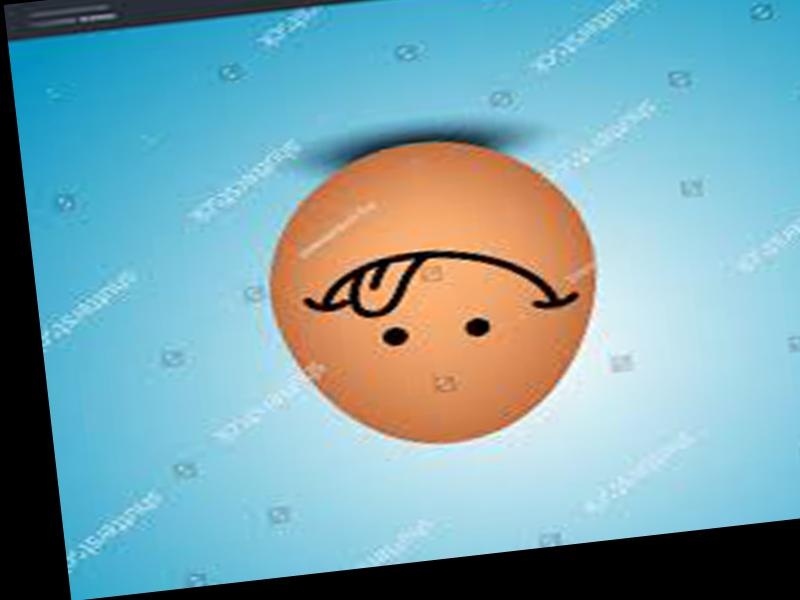Eggs: (254, 123, 614, 461)
